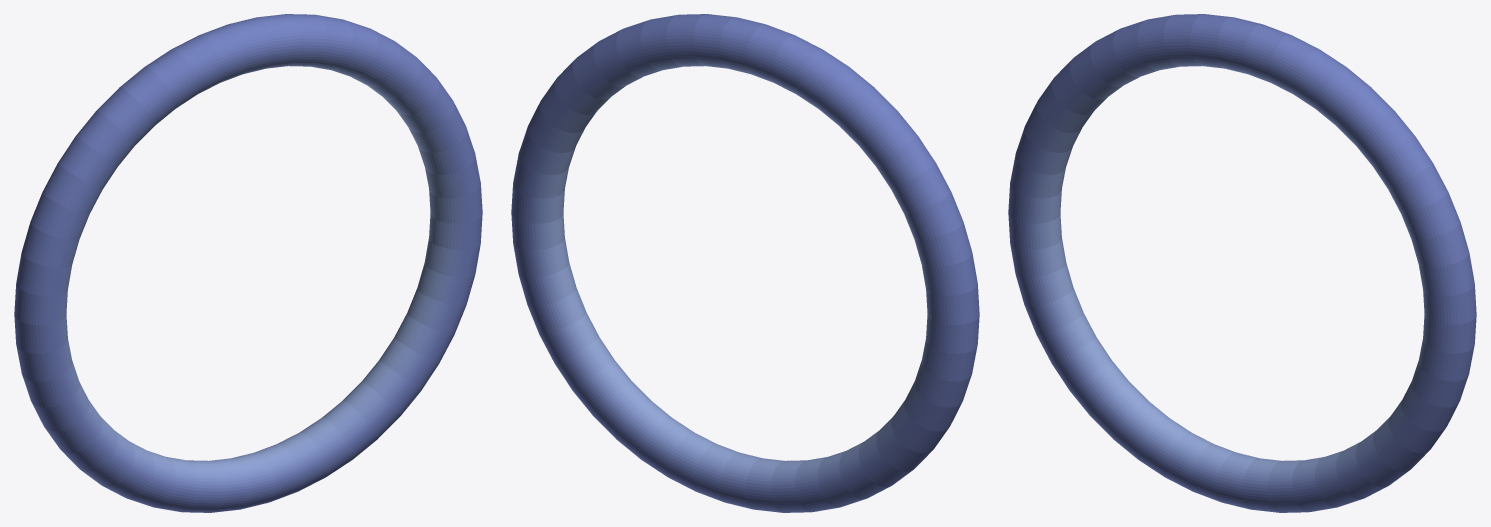
3 renders of one model, left to right at view 1: azimuth 30°, elevation 25°; view 2: azimuth 150°, elevation 25°; view 3: azimuth 330°, elevation 25°, orthographic.
Visible parts, largest first — view 1: world; view 2: world; view 3: world.
Boxes of the visible parts, bbox=[...] form: world: bbox=[14, 14, 482, 512]; world: bbox=[511, 14, 979, 512]; world: bbox=[1008, 14, 1476, 512].
Bounding box in the file's own units: 25.87 × 25.82 × 2.53.
